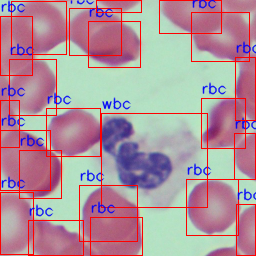rbc: (79, 185, 137, 241), (0, 130, 50, 190), (11, 1, 66, 54), (186, 179, 238, 235), (191, 12, 249, 61), (9, 59, 56, 115), (46, 108, 100, 156), (69, 8, 121, 55), (88, 21, 140, 67), (201, 98, 245, 148), (159, 0, 221, 33), (0, 192, 33, 254), (19, 150, 61, 198), (90, 217, 142, 255), (28, 220, 83, 255), (0, 16, 32, 75), (235, 57, 255, 120), (236, 204, 255, 255), (234, 133, 255, 179), (0, 100, 19, 147), (96, 0, 141, 12)
wbc: (101, 113, 207, 207)
